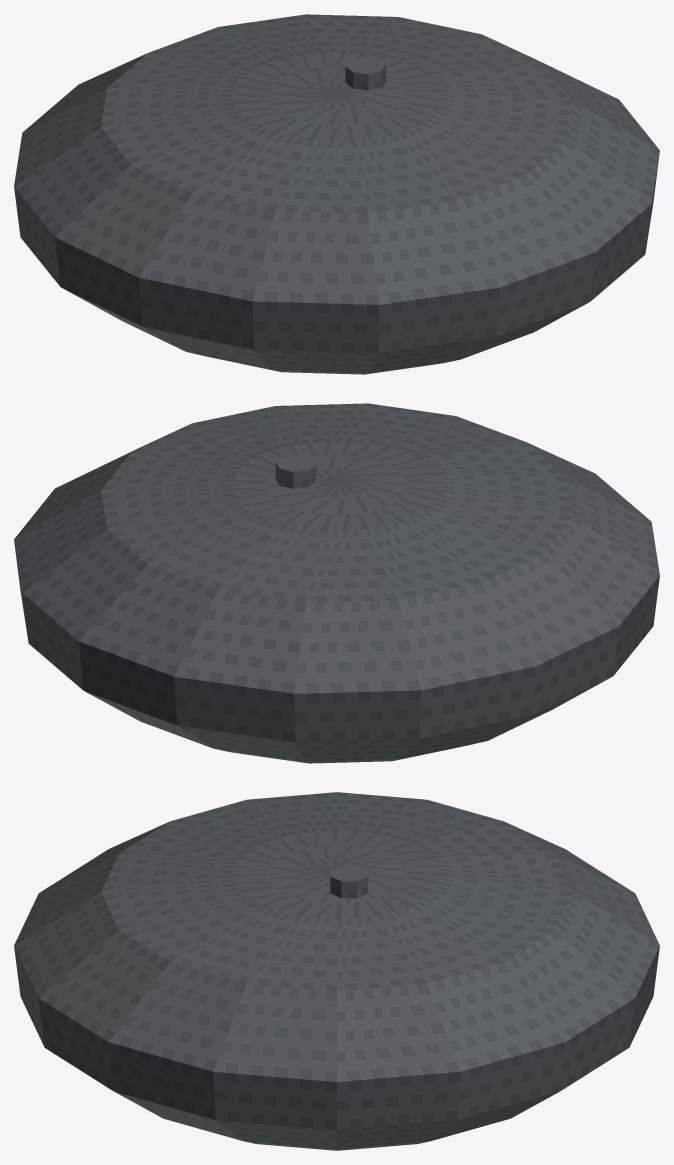
The model's file is beret.glb.
The picture shows the model from 3 angles, top to bottom: view 1: azimuth 30°, elevation 25°; view 2: azimuth 150°, elevation 25°; view 3: azimuth 270°, elevation 25°; orthographic projection.
Visible parts, largest first — view 1: block_shaped hat crown and brim, block_center tab; view 2: block_shaped hat crown and brim, block_center tab; view 3: block_shaped hat crown and brim, block_center tab.
Part boxes in pixels (x1,y1,x2,y2): block_shaped hat crown and brim: [14, 14, 659, 374]; block_center tab: [345, 57, 385, 90]; block_shaped hat crown and brim: [14, 403, 659, 763]; block_center tab: [275, 455, 316, 488]; block_shaped hat crown and brim: [14, 792, 659, 1150]; block_center tab: [330, 865, 367, 898].
Size of the model in its own units: 0.1588 by 0.0556 by 0.1588.
1 material, 1 textured.
